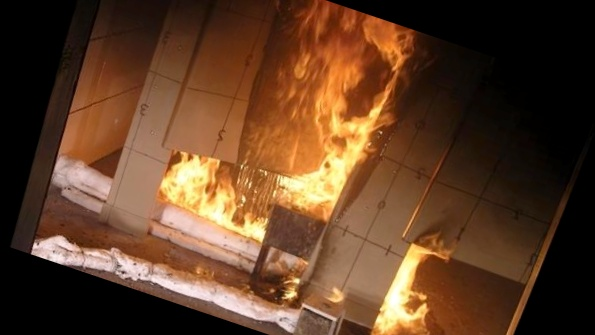fire: (142, 0, 435, 291), (347, 217, 478, 335)
